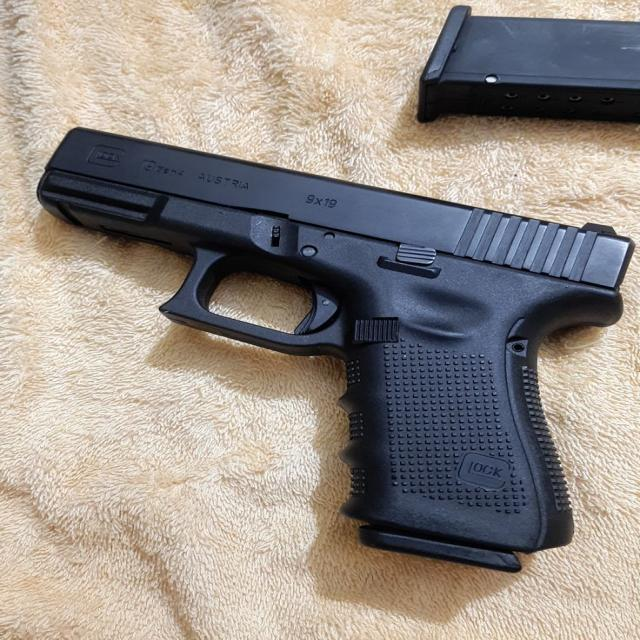handgun: (34, 107, 632, 581)
